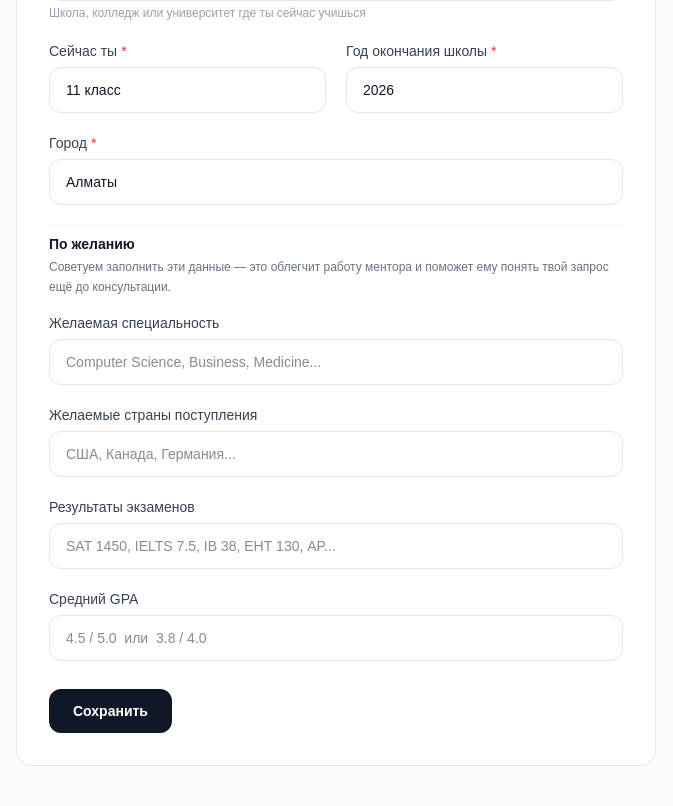
StudentProfilePage (app/students/profile) › authenticated student › shows a generic error banner when saving fails with a non-field error
(page scrolled)
Click the button "Сохранить": (110, 711) top-left (49, 689), bottom-right (172, 733)
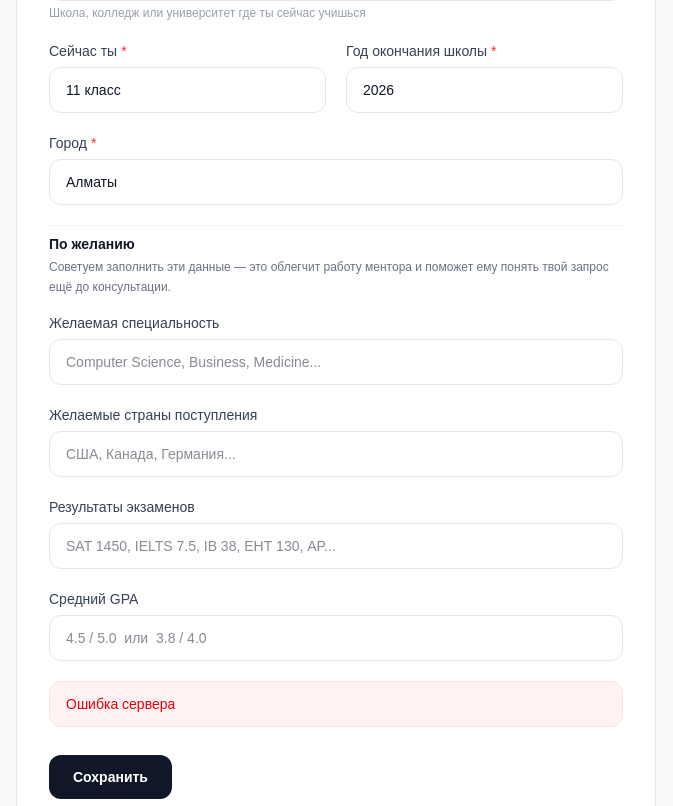
Expected: the text "Ошибка сервера" is shown, top-left (49, 681), bottom-right (623, 727)
